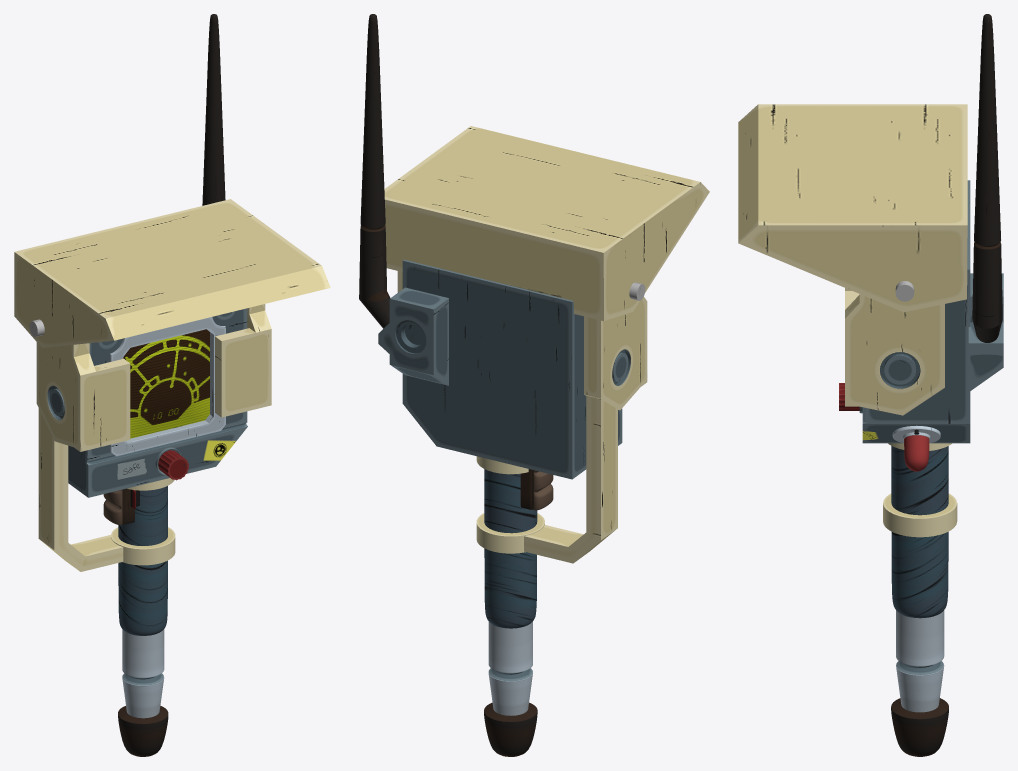
The model's file is itemscanner.dae.
The picture shows the model from 3 angles, left to right: view 1: azimuth 30°, elevation 25°; view 2: azimuth 150°, elevation 25°; view 3: azimuth 270°, elevation 25°; orthographic projection. The views are drawn at different scales.
Visible parts, largest first — view 1: Scanner; view 2: Scanner; view 3: Scanner.
Part boxes in pixels (left/top/right/bottom): Scanner: left=14, top=14, right=330, bottom=756; Scanner: left=359, top=14, right=709, bottom=756; Scanner: left=738, top=14, right=1003, bottom=756.
Size of the model in its own units: 2.91 by 2.51 by 8.28.
1 material, 1 textured.
